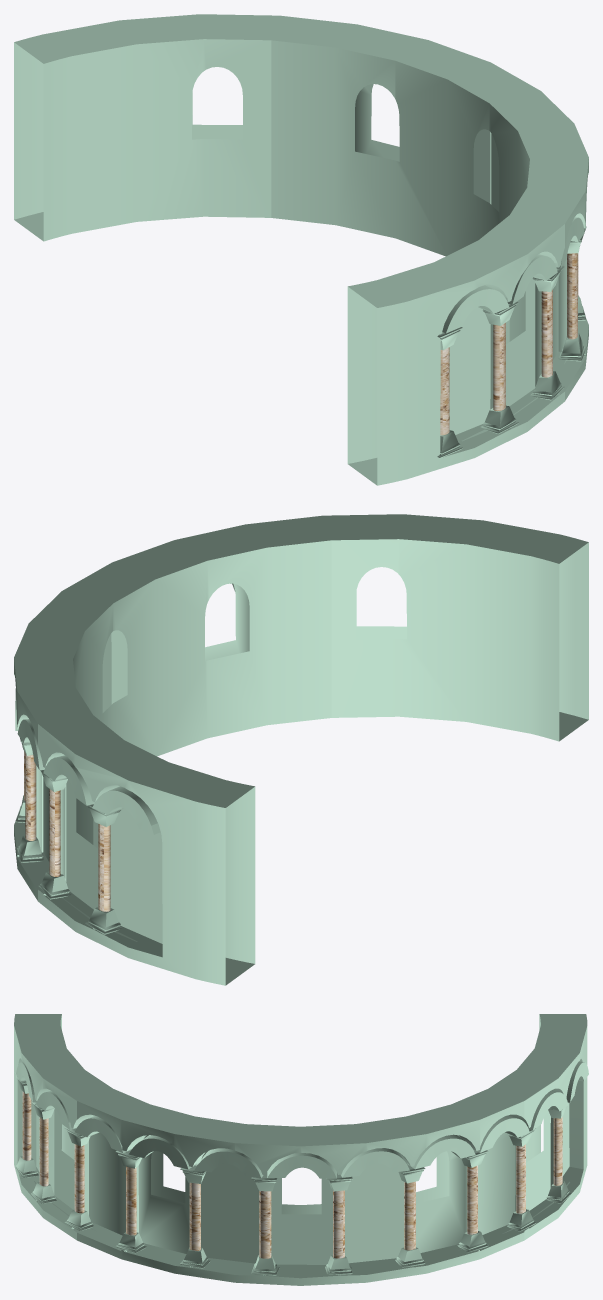
The model's file is ARC.fbx.
3 renders of one model, top to bottom at view 1: azimuth 30°, elevation 25°; view 2: azimuth 150°, elevation 25°; view 3: azimuth 270°, elevation 25°, orthographic. The views are drawn at different scales.
Visible parts, largest first — view 1: Circle68, Circle65, Cylinder65, Cylinder64, Cylinder63, Circle64, Cylinder67, Line246_Li; view 2: Circle68, Circle57, Cylinder58, Circle58, Cylinder57, Cylinder66, Line252_Li; view 3: Circle68, Circle62, Circle61, Circle63, Circle60, Circle67, Cylinder62, Circle59, Cylinder60, Cylinder59, Cylinder61, Circle66 (+20 smaller).
Part boxes in pixels (box(x1,y1,x2,y2)): Circle68: box(14, 14, 588, 485); Circle65: box(442, 285, 509, 333); Cylinder65: box(493, 322, 505, 410); Cylinder64: box(541, 289, 552, 377); Cylinder63: box(567, 253, 577, 339); Circle64: box(507, 254, 557, 304); Cylinder67: box(440, 347, 449, 435); Line246_Li: box(481, 405, 518, 433); Circle68: box(14, 514, 588, 985); Circle57: box(92, 786, 160, 834); Cylinder58: box(98, 824, 110, 911); Circle58: box(43, 755, 94, 805); Cylinder57: box(49, 789, 60, 876); Cylinder66: box(25, 753, 36, 840); Line252_Li: box(85, 907, 122, 934); Circle68: box(14, 1014, 587, 1285); Circle62: box(267, 1153, 336, 1178); Circle61: box(341, 1148, 409, 1177); Circle63: box(194, 1148, 263, 1178); Circle60: box(407, 1134, 475, 1169); Circle67: box(128, 1135, 191, 1169); Cylinder62: box(259, 1191, 271, 1258); Circle59: box(473, 1115, 529, 1152); Cylinder60: box(333, 1190, 344, 1258); Cylinder59: box(404, 1181, 415, 1250); Cylinder61: box(189, 1182, 200, 1250); Circle66: box(75, 1116, 132, 1153).
Bounding box in the file's own units: 4432 × 2179 × 8134.
